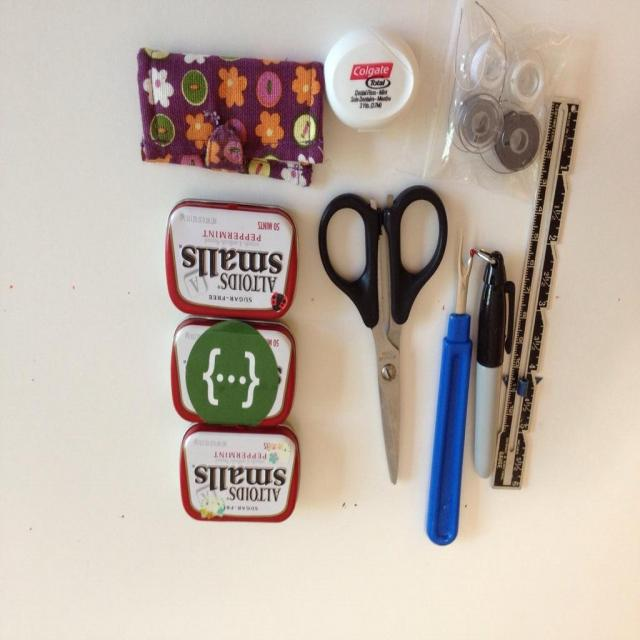scissor: (306, 182, 450, 483)
